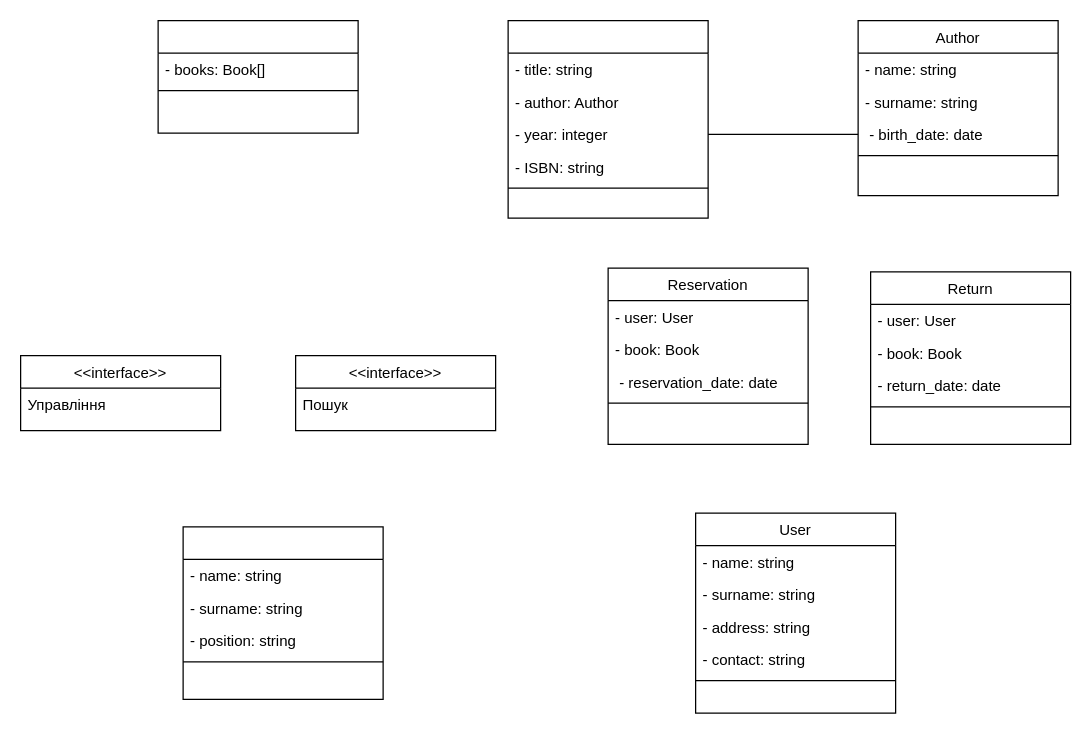
Some shapes in this 1091 by 734 pixel diagram are drawn without their labels. Here are the shapes that lost their labels. From the top down, the box of each, then its label:
(157, 19, 358, 133): Catalog
(507, 19, 708, 218): Book
(182, 526, 383, 699): Librarian
